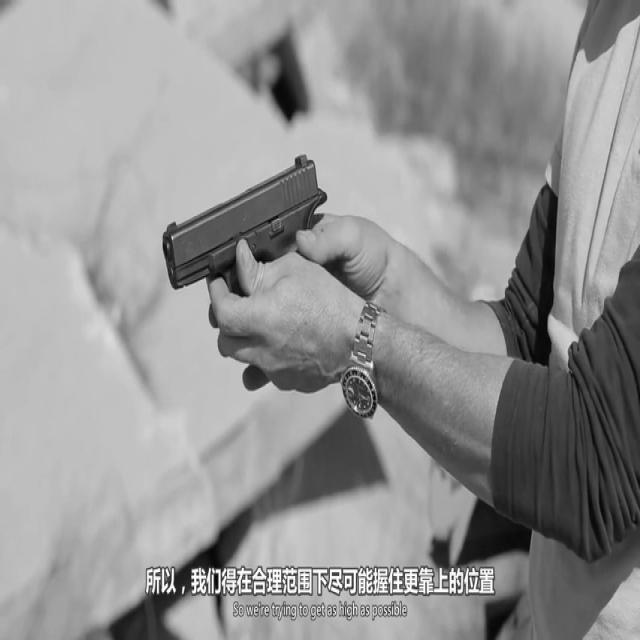Hand-Gun: (144, 95, 382, 427)
